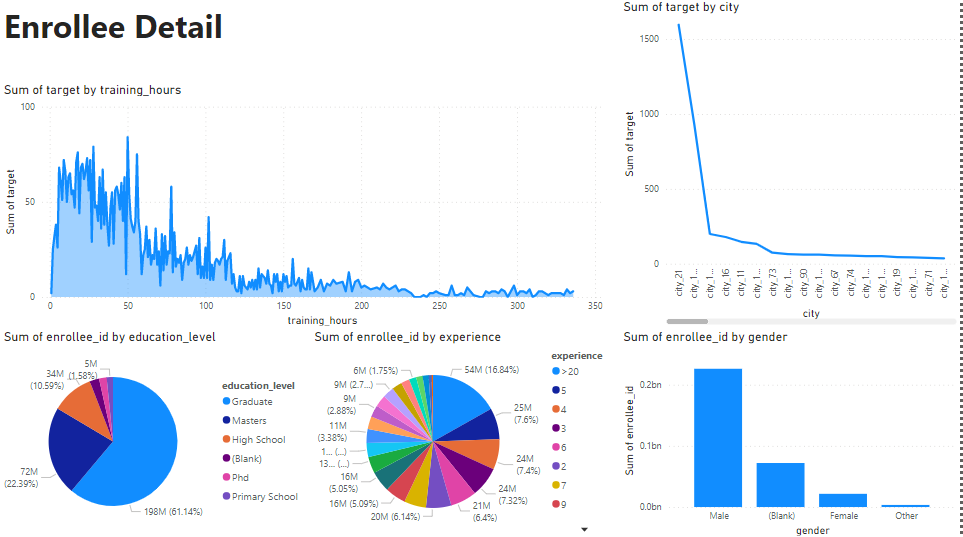

The page's visual inventory and layout, read from the dashboard file:
{"tool":"powerbi","page":{"name":"Page 1","canvas":[1280,720],"ordinal":0},"visuals":[{"type":"pieChart","fields":{"Y":["Sum(39d8664d25f75f1377e49cbe45012b6.enrollee_id)"],"Category":["39d8664d25f75f1377e49cbe45012b6.education_level"]},"box":[0,440,414,280],"z":0},{"type":"pieChart","fields":{"Y":["Sum(39d8664d25f75f1377e49cbe45012b6.enrollee_id)"],"Category":["39d8664d25f75f1377e49cbe45012b6.experience"]},"box":[414,440,412,280],"z":1000},{"type":"columnChart","fields":{"Y":["Sum(39d8664d25f75f1377e49cbe45012b6.enrollee_id)"],"Category":["39d8664d25f75f1377e49cbe45012b6.gender"]},"box":[825.6,439.3,454.4,280.2],"z":2000},{"type":"areaChart","fields":{"Category":["39d8664d25f75f1377e49cbe45012b6.training_hours"],"Y":["Sum(39d8664d25f75f1377e49cbe45012b6.target)"]},"box":[0,110,808,330],"z":3000},{"type":"lineChart","fields":{"Y":["Sum(39d8664d25f75f1377e49cbe45012b6.target)"],"Category":["39d8664d25f75f1377e49cbe45012b6.city"]},"box":[826,0,454,439],"z":4000},{"type":"textbox","box":[0,0,716,72],"z":5000}]}

Visuals, with their boxes in screenshot pixels (x1, y1, x2, y2), scaled from the page's 1280x720 canvas onto the 963x537 screenshot:
pieChart - Sum(39d8664d25f75f1377e49cbe45012b6.enrollee_id) x 39d8664d25f75f1377e49cbe45012b6.education_level: box=[0, 328, 311, 536]
pieChart - Sum(39d8664d25f75f1377e49cbe45012b6.enrollee_id) x 39d8664d25f75f1377e49cbe45012b6.experience: box=[311, 328, 621, 536]
columnChart - Sum(39d8664d25f75f1377e49cbe45012b6.enrollee_id) x 39d8664d25f75f1377e49cbe45012b6.gender: box=[621, 328, 962, 536]
areaChart - 39d8664d25f75f1377e49cbe45012b6.training_hours x Sum(39d8664d25f75f1377e49cbe45012b6.target): box=[0, 82, 608, 328]
lineChart - Sum(39d8664d25f75f1377e49cbe45012b6.target) x 39d8664d25f75f1377e49cbe45012b6.city: box=[621, 0, 962, 327]
textbox: box=[0, 0, 539, 54]
